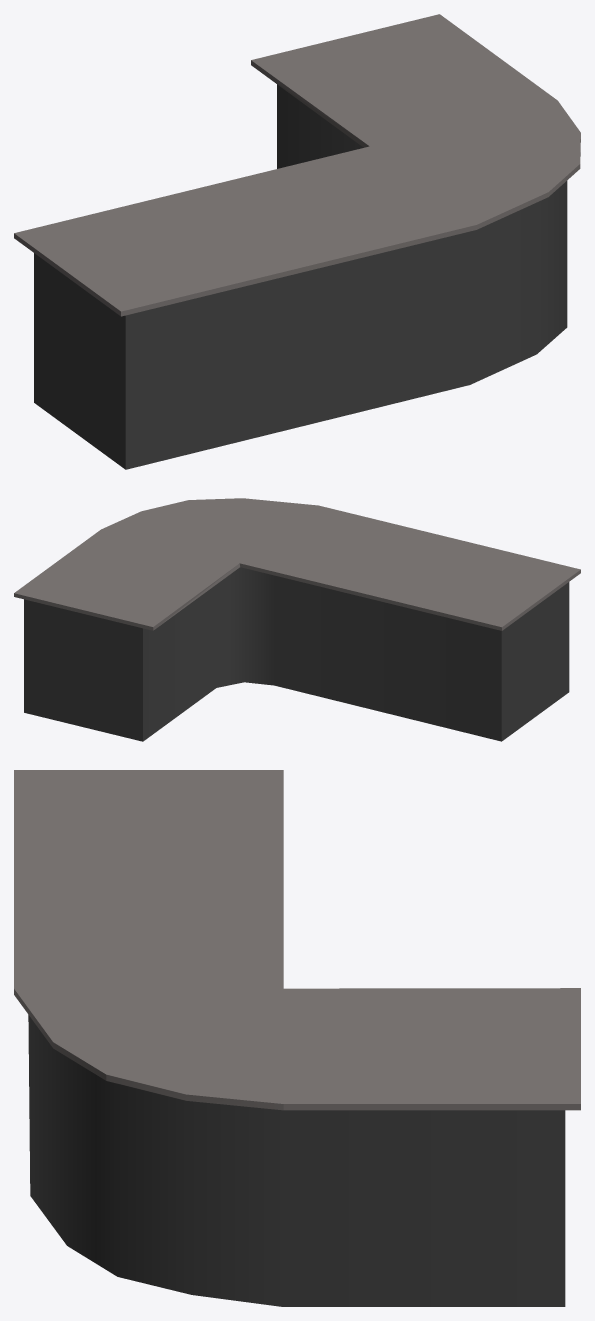
File: SM_Table_05.FBX
The picture shows the model from 3 angles, top to bottom: view 1: azimuth 30°, elevation 25°; view 2: azimuth 150°, elevation 25°; view 3: azimuth 270°, elevation 25°; orthographic projection. The views are drawn at different scales.
Visible parts, largest first — view 1: SM_Table_05; view 2: SM_Table_05; view 3: SM_Table_05.
Boxes of the visible parts, x1=… form: SM_Table_05: x1=14, y1=14, x2=580, y2=469; SM_Table_05: x1=14, y1=498, x2=580, y2=741; SM_Table_05: x1=14, y1=770, x2=580, y2=1306.
Bounding box in the file's own units: 318 × 228 × 92.04.
